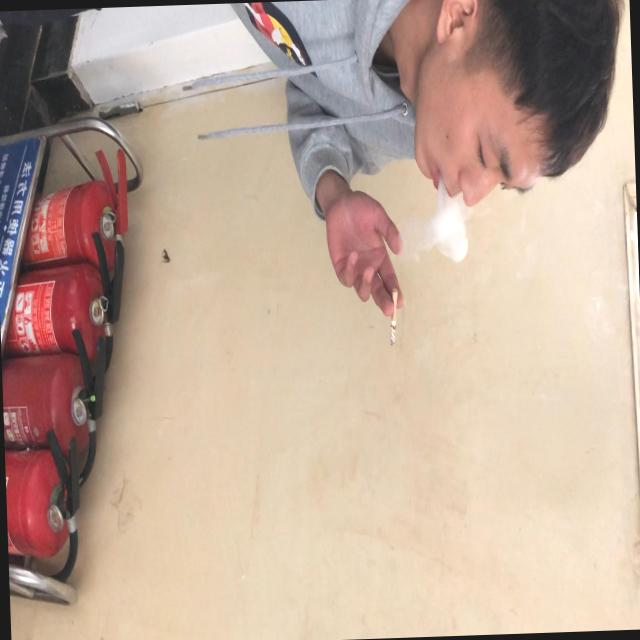smoke: (384, 286, 400, 347)
